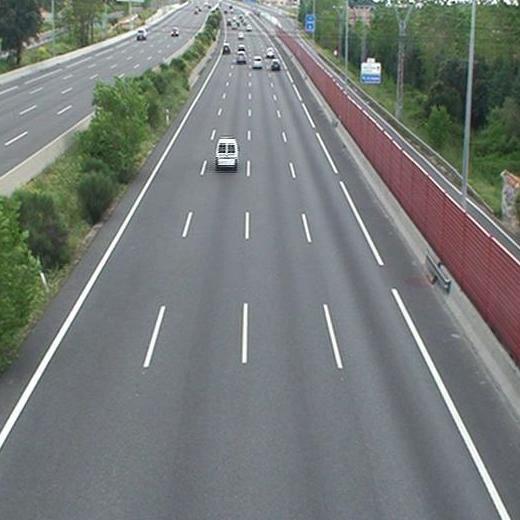car: (252, 56, 263, 67), (235, 51, 246, 62), (265, 47, 274, 56), (271, 61, 280, 69), (221, 44, 229, 53)
van: (216, 140, 238, 167)
